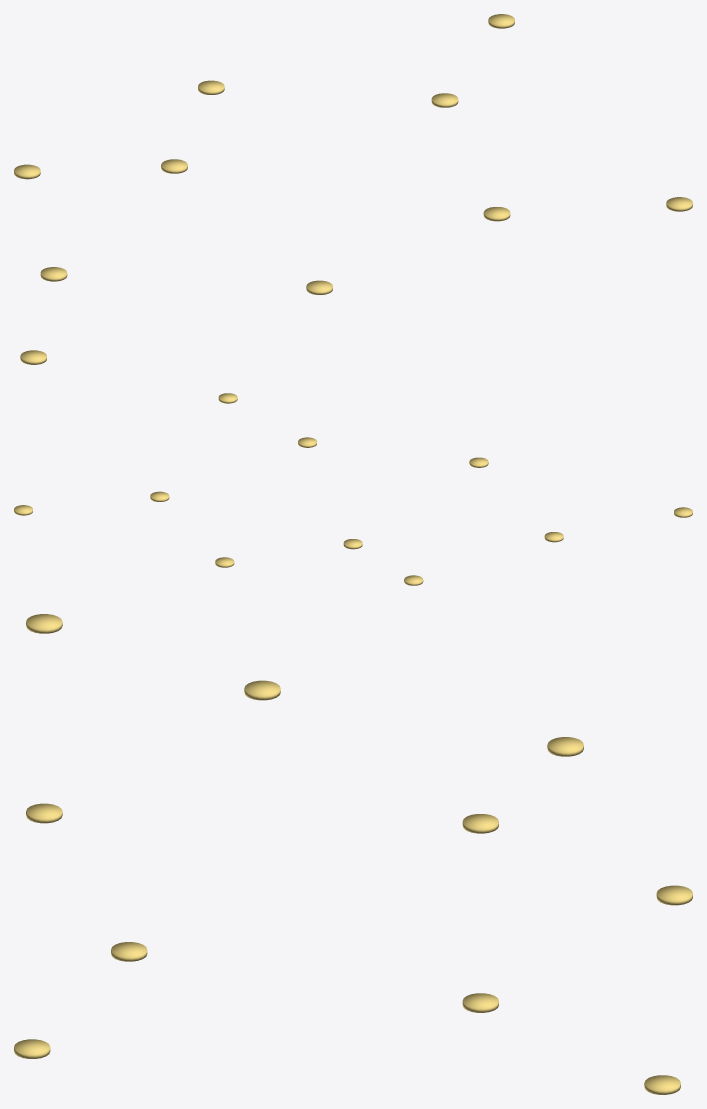
Rendered from 12_L95_BottomCopperPadTargets.fbx.
3 views of the same model, one above another, from view 1: azimuth 30°, elevation 25°; view 2: azimuth 150°, elevation 25°; view 3: azimuth 270°, elevation 25° (orthographic). The views are drawn at different scales.
Visible parts, largest first — view 1: L95_BottomCopperPadTargets; view 2: L95_BottomCopperPadTargets; view 3: L95_BottomCopperPadTargets.
Boxes of the visible parts, x1,y1,x2,y2 form: L95_BottomCopperPadTargets: [14, 14, 692, 364]; L95_BottomCopperPadTargets: [14, 393, 692, 585]; L95_BottomCopperPadTargets: [14, 614, 692, 1094].
Bounding box in the file's own units: 1.12 × 0.005 × 0.672.
